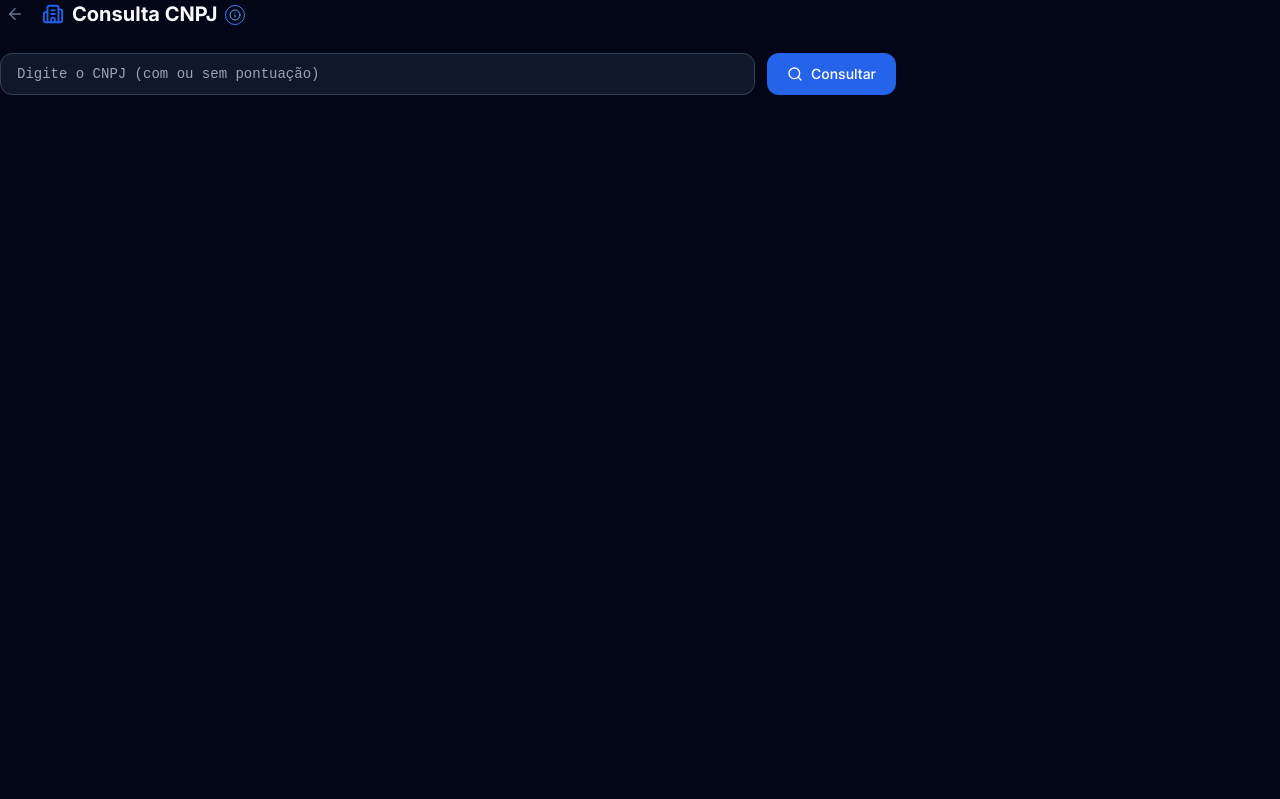
ConsultaCnpjPage › consulta um CNPJ e exibe os dados da Receita
The width and height of the screenshot is (1280, 799).
In the field with placeholder "Digite o CNPJ (com ou sem pontuação)": (378, 74) [0,53,755,95], type "11.444.777/0001-61"
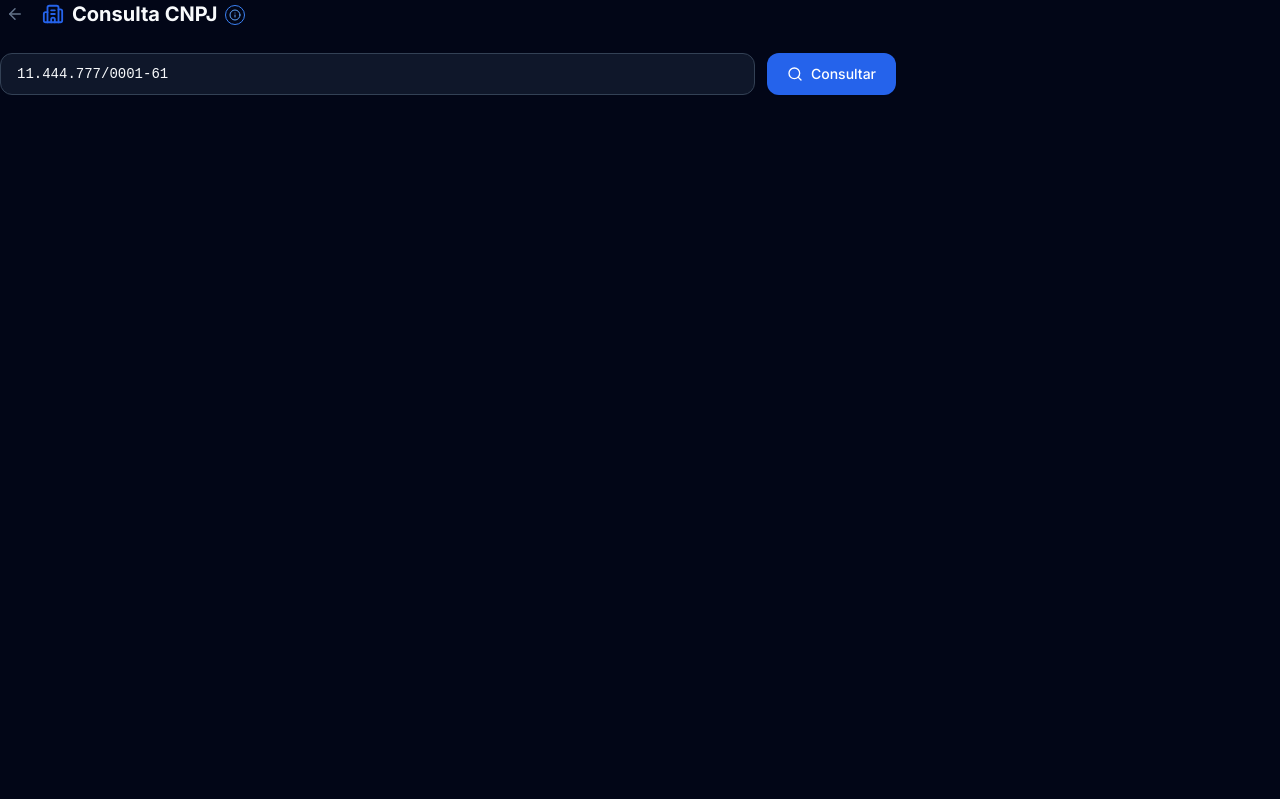
Submit the form, box [0,53,896,95]
(page scrolled)
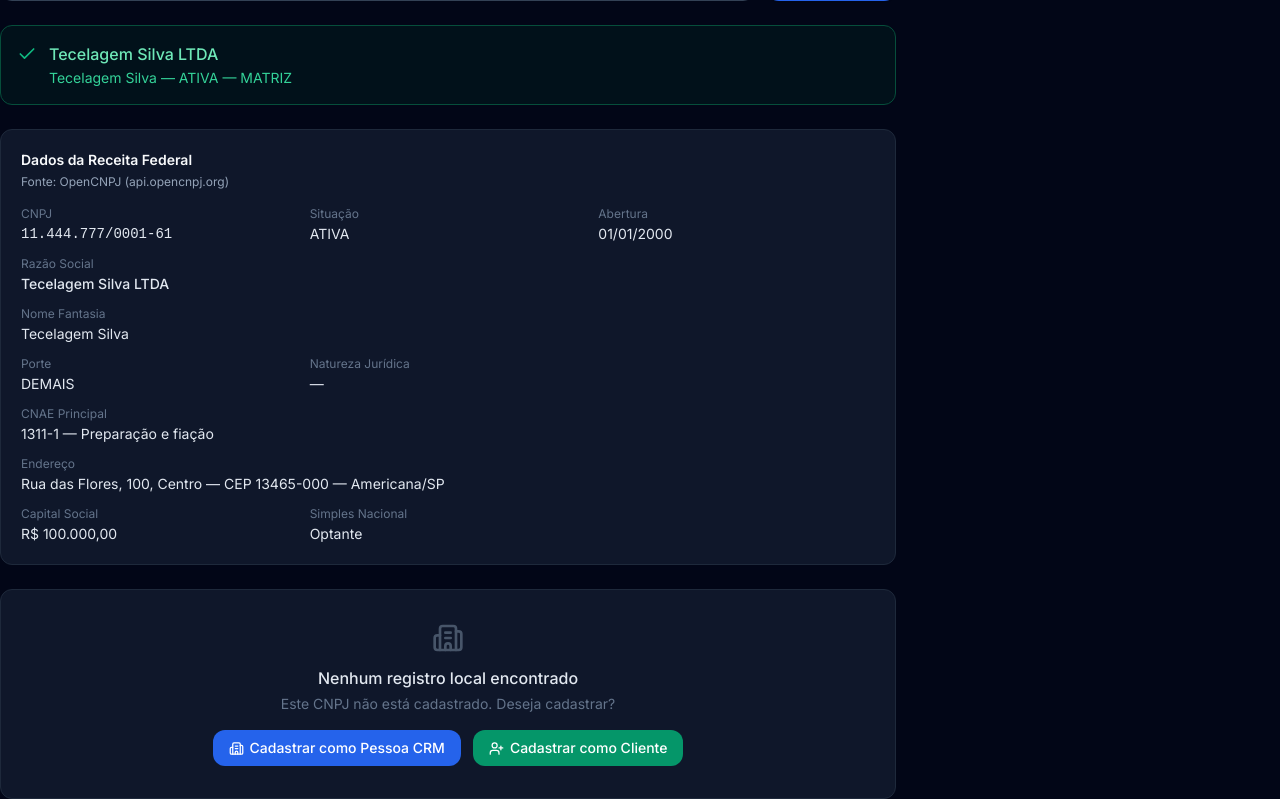
Expected: the text "11.444.777/0001-61" is shown, [21,226,172,242]
Expected: the text "ATIVA" is shown, [310,225,349,242]
Expected: the text "Nenhum registro local encontrado" is shown, [318,668,578,688]
